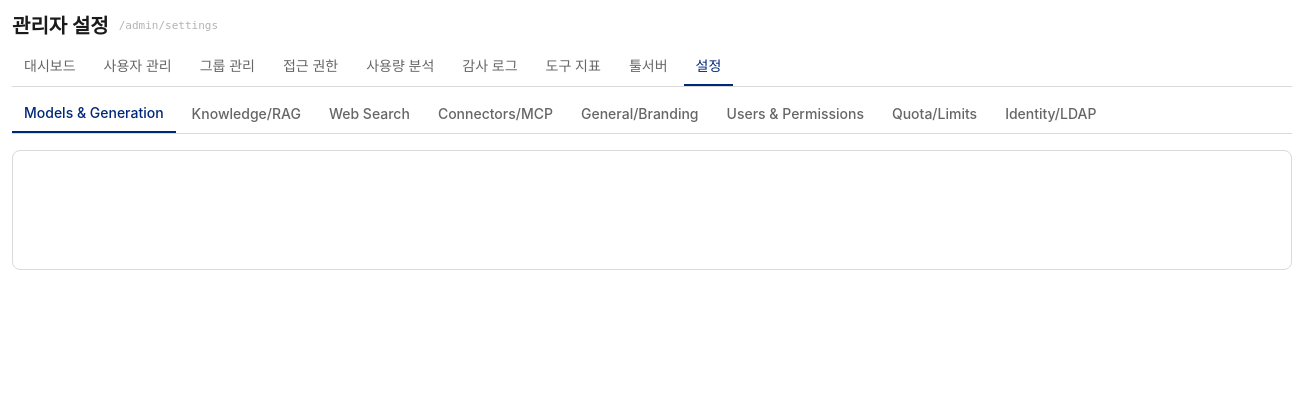
Test case: AdminSettingsScreen › 탭을 클릭하면 활성 탭과 패널이 전환된다
Expected: the element named "관리자 설정 탭" is shown, [12,103,1291,134]
Expected: the panel with test id "admin-settings-panel-models" is shown, [12,150,1291,270]
Click the tab with test id "admin-settings-tab-rag" at (246, 118), box [180,103,313,133]
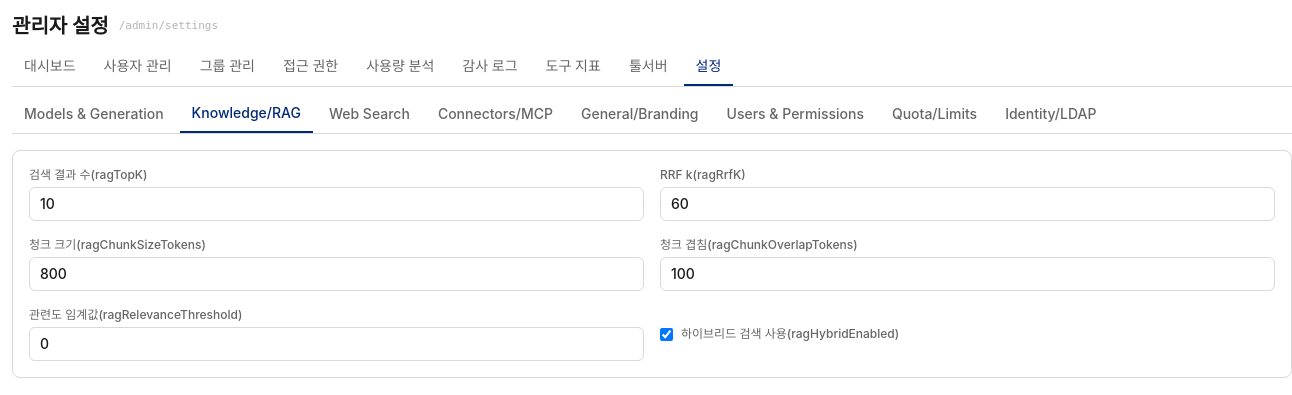
Expected: the panel with test id "admin-settings-panel-rag" is shown, [12,150,1291,378]
